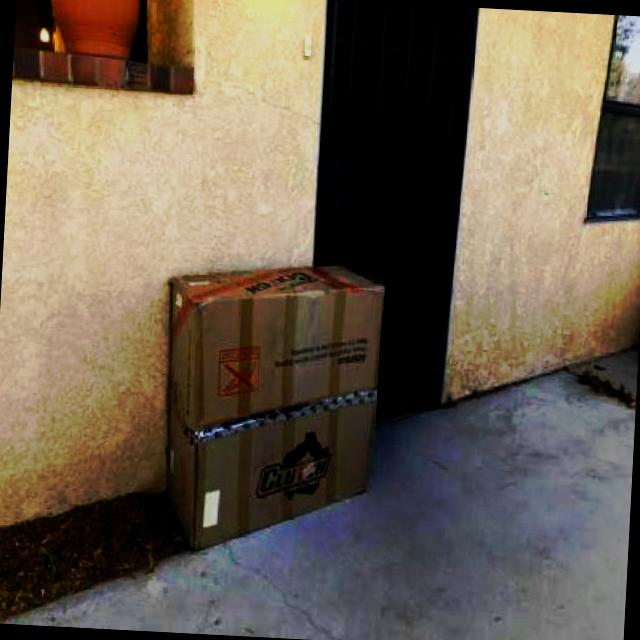Box: (157, 256, 386, 560)
